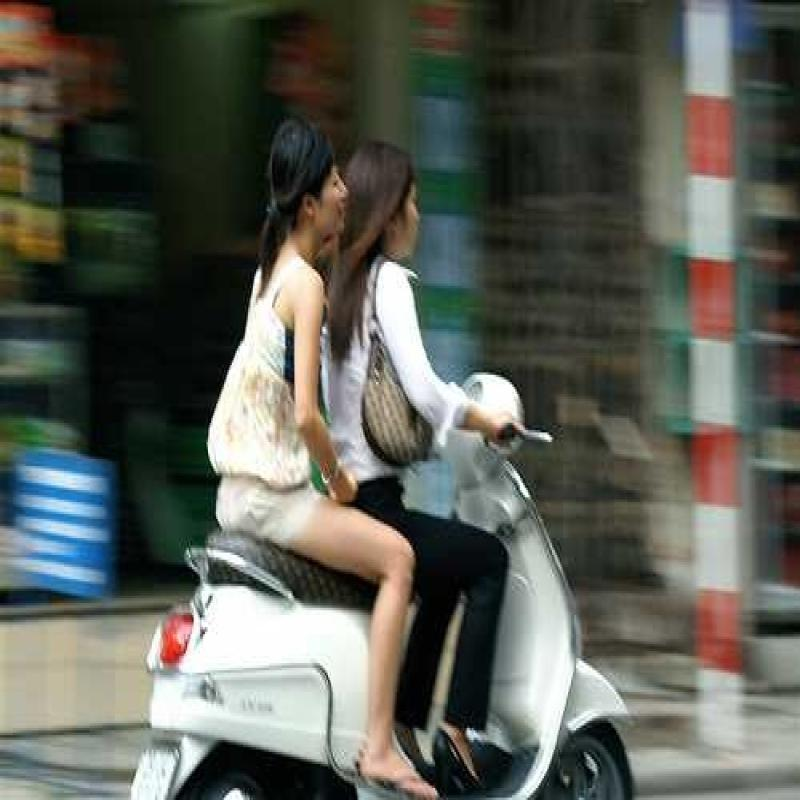bike: (129, 365, 645, 781)
